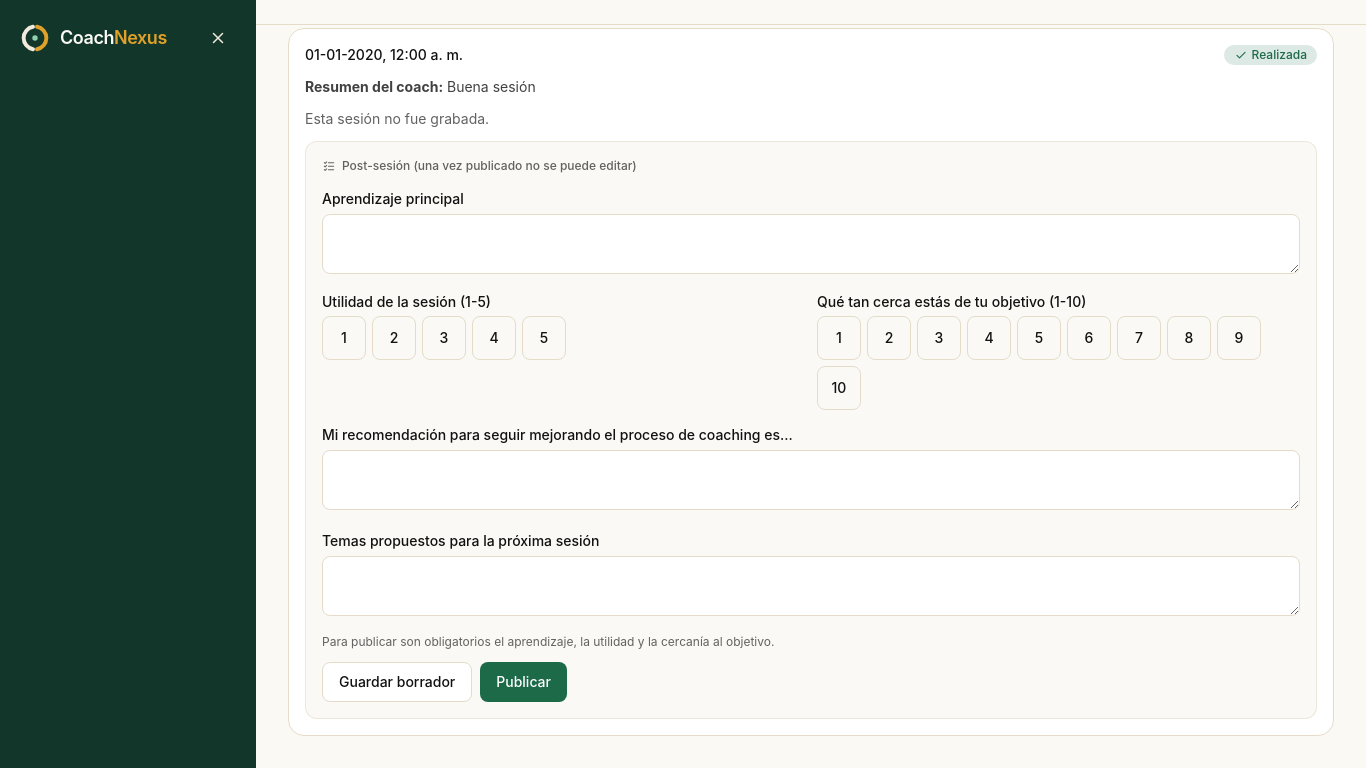
Test: SesionesView › does not publish without the required fields and shows inline errors
The image size is (1366, 768).
(page scrolled)
Click the button "Publicar": coordinates (524, 682) [480, 662, 567, 702]
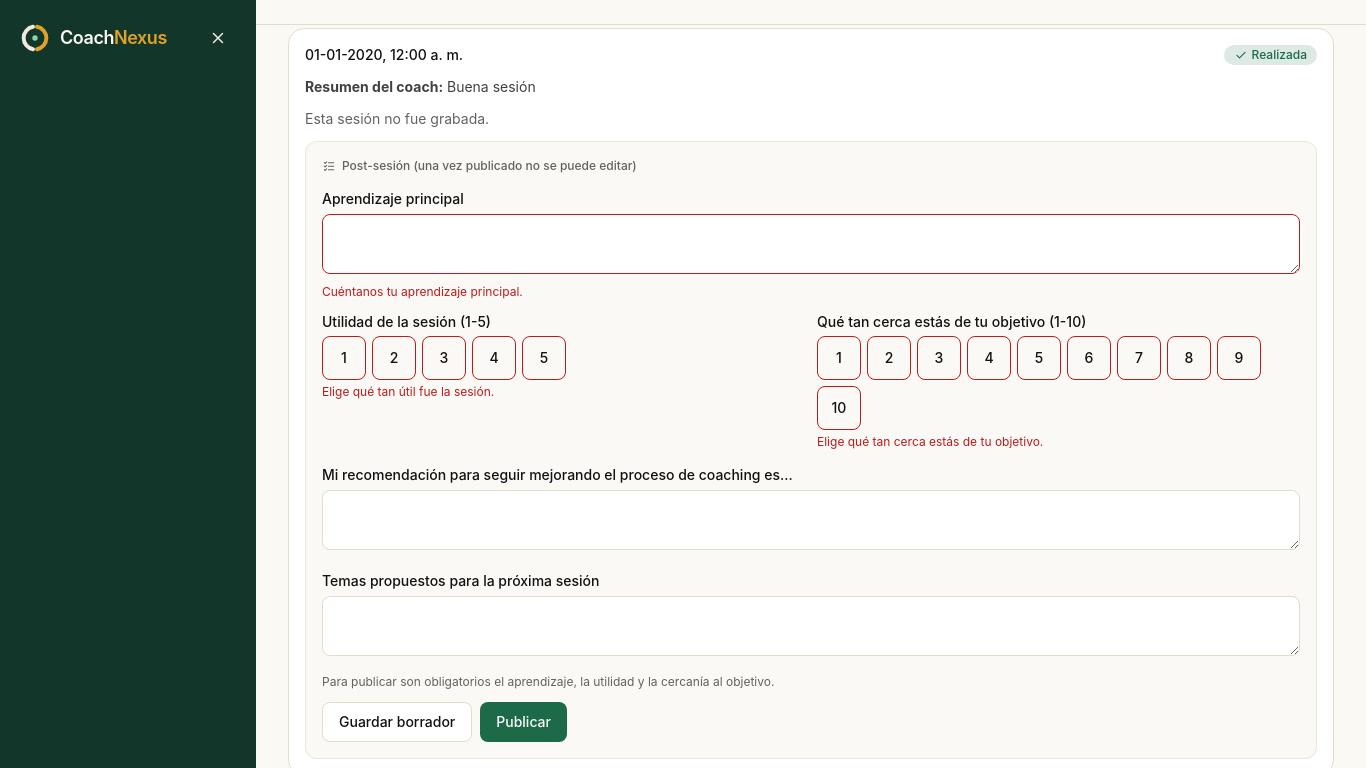
Now the text "Cuéntanos tu aprendizaje principal." is shown, box [322, 284, 523, 299]
Now the text "Elige qué tan útil fue la sesión." is shown, box [322, 384, 494, 399]
Now the text "Elige qué tan cerca estás de tu objetivo." is shown, box [817, 434, 1043, 449]
